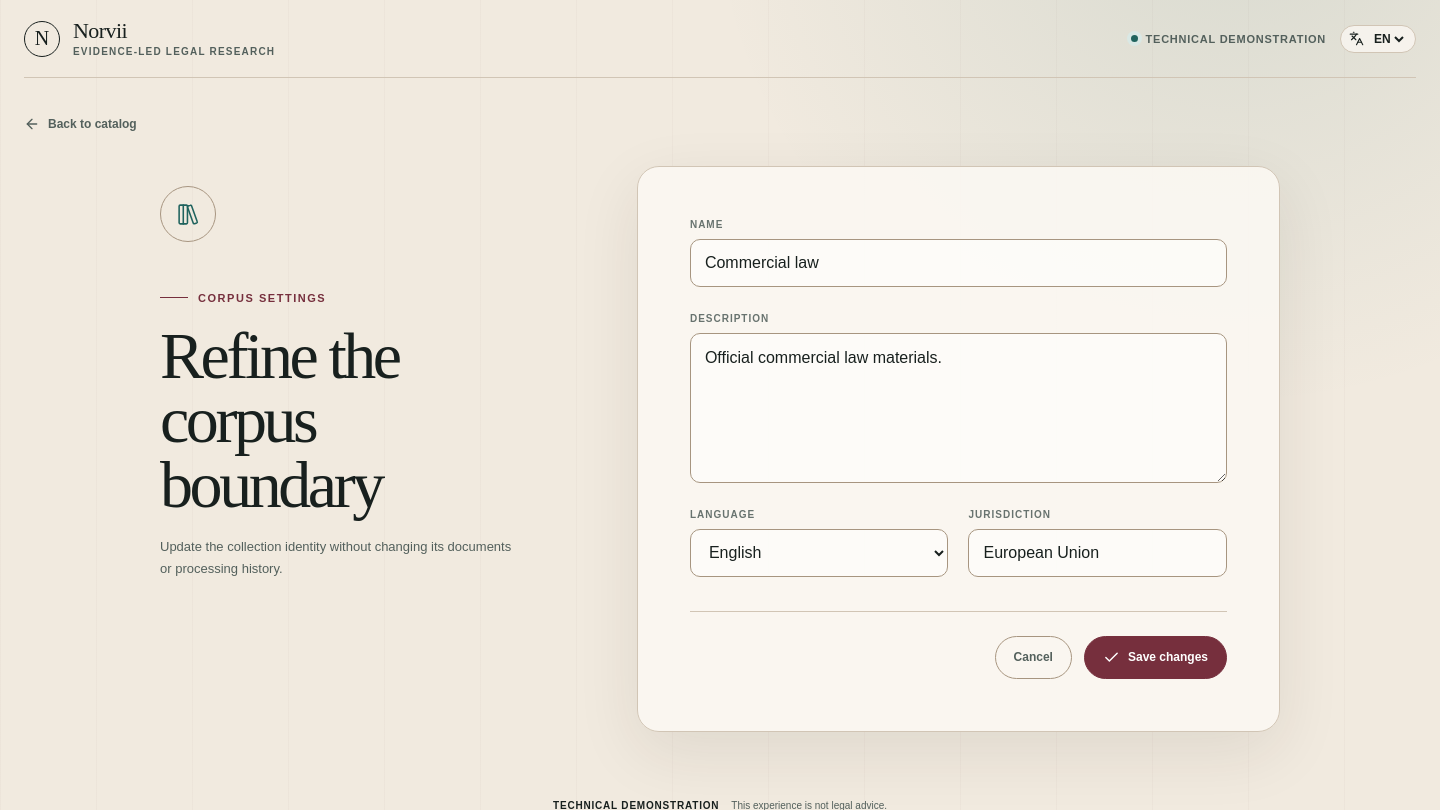
Scenario: corpus form page › loads and updates an existing corpus without disturbing the catalog
Replace the text in the field labelled "Name" with "Updated commercial law". click: [958, 263]
box: [690,239,1227,287]
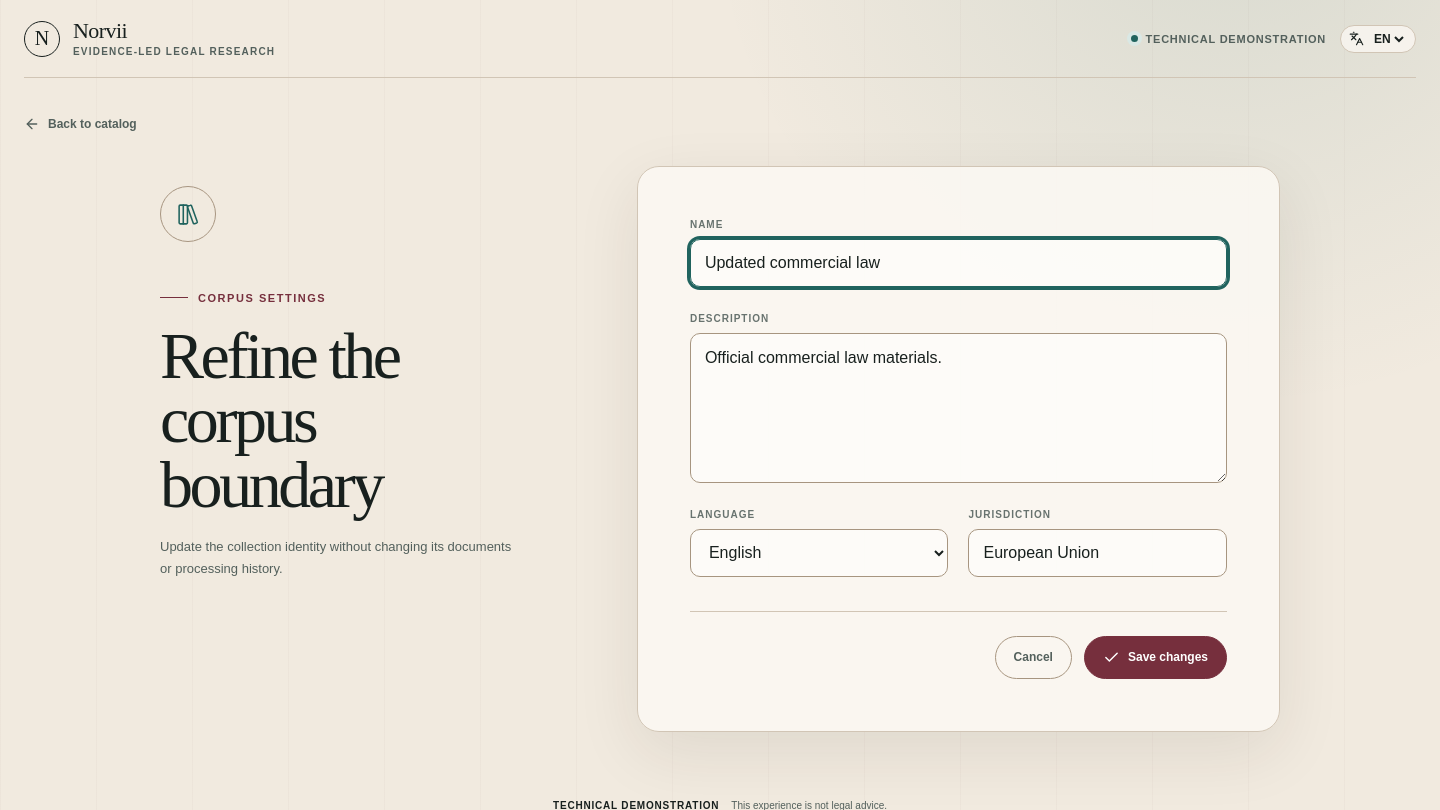
Click the button "Save changes". click: [1156, 658]
box: [1084,636,1227,679]
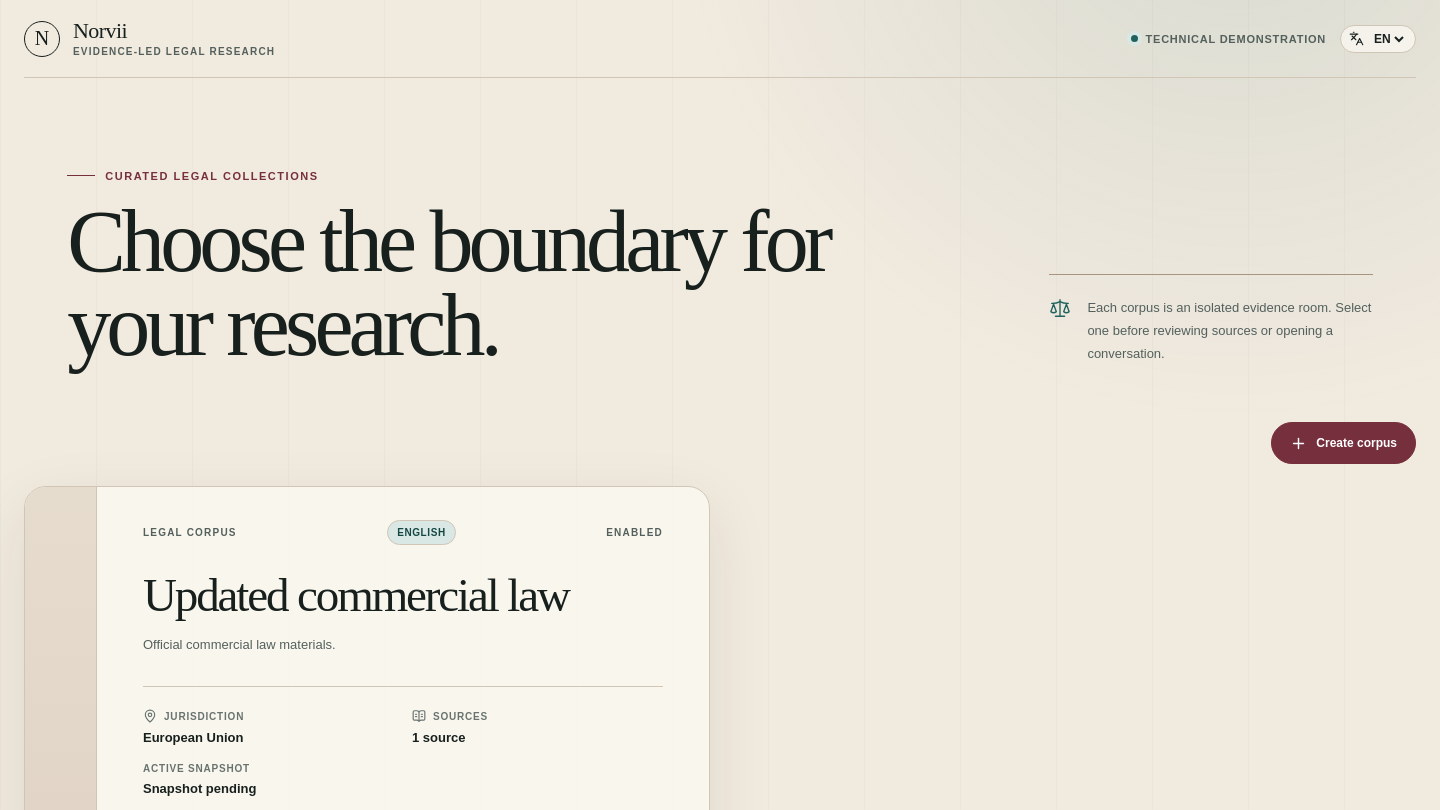
Now the heading "Updated commercial law" is shown, box [143,569,569,621]
